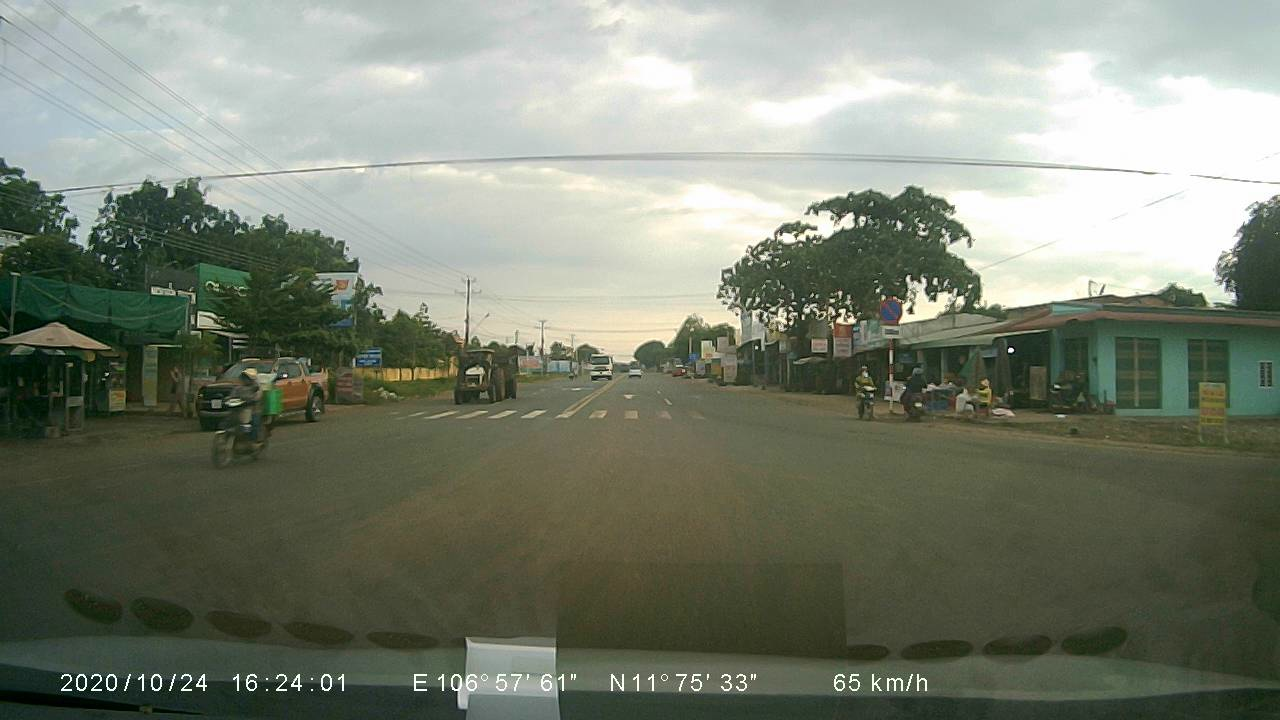Cam do xe: (877, 296, 908, 324)
